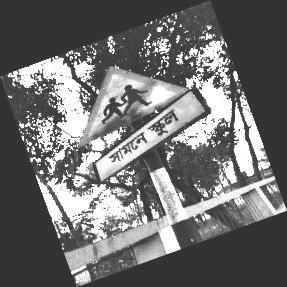School-in-front: (78, 66, 208, 188)
